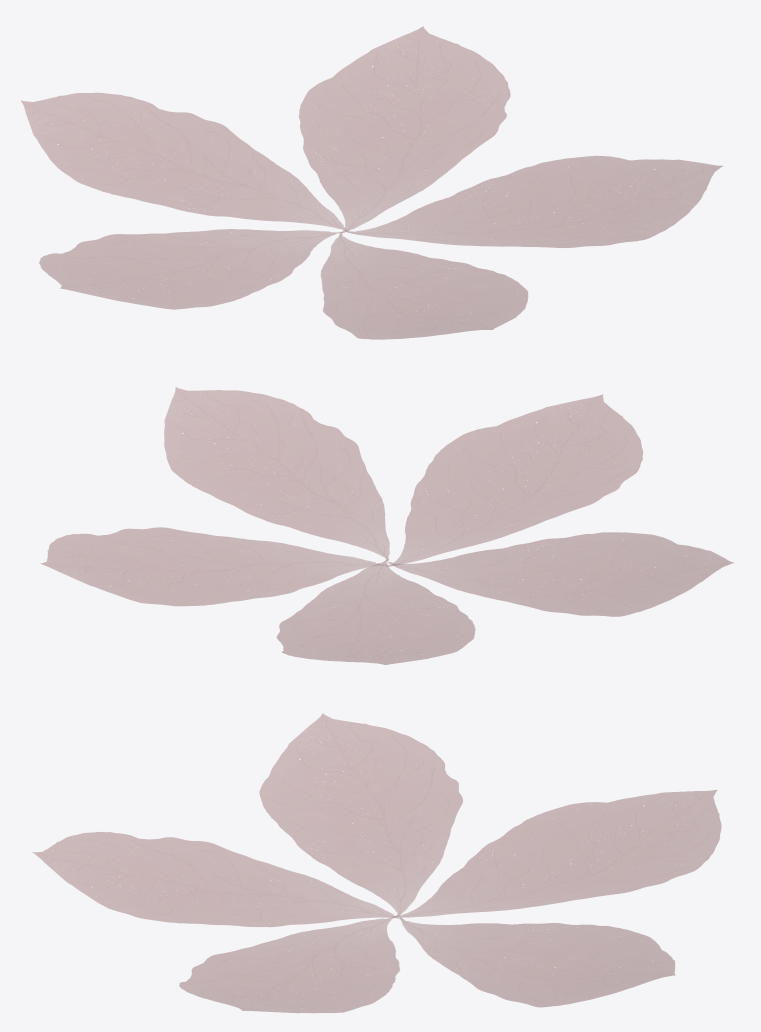
File: petals.glb
3 views of the same model, one above another, from view 1: azimuth 30°, elevation 25°; view 2: azimuth 150°, elevation 25°; view 3: azimuth 270°, elevation 25° (orthographic). The views are drawn at different scales.
Visible parts, largest first — view 1: pPlane23; view 2: pPlane23; view 3: pPlane23.
Boxes of the visible parts, bbox=[...] form: pPlane23: bbox=[21, 26, 722, 339]; pPlane23: bbox=[40, 387, 733, 664]; pPlane23: bbox=[32, 713, 721, 1013].
Size of the model in its own units: 2.61 by 0.2294 by 2.59.
Materials: 1 (1 with a texture image).
